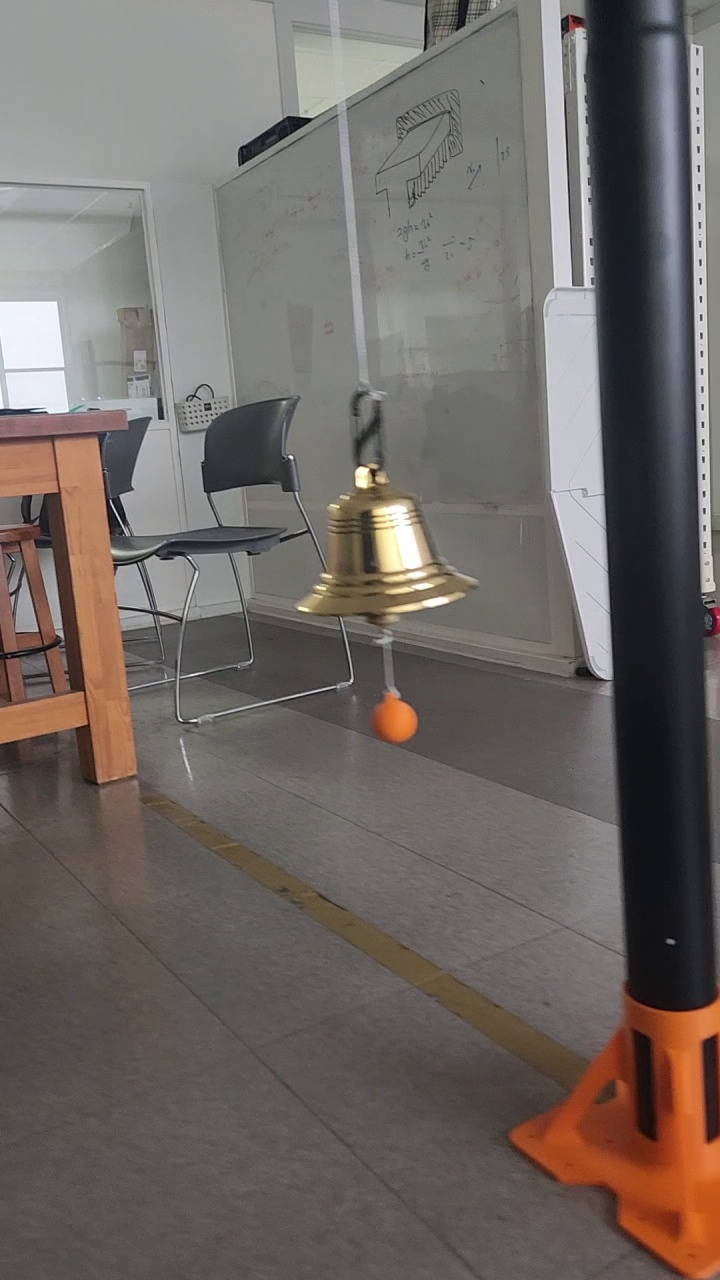bell: (287, 468, 483, 630)
pole: (582, 0, 718, 995)
